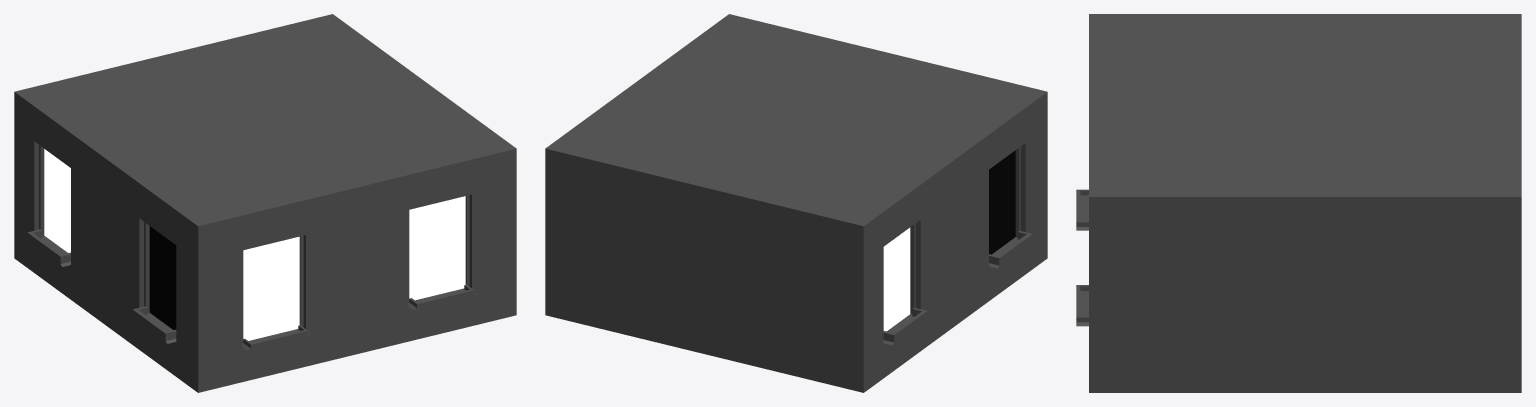
The model's file is immeuble4Milieu.fbx.
3 renders of one model, left to right at view 1: azimuth 30°, elevation 25°; view 2: azimuth 150°, elevation 25°; view 3: azimuth 270°, elevation 25°, orthographic. The views are drawn at different scales.
Visible parts, largest first — view 1: Cube.225; view 2: Cube.225; view 3: Cube.225.
Boxes of the visible parts, x1,y1,x2,y2 form: Cube.225: [14, 14, 516, 392]; Cube.225: [545, 14, 1047, 392]; Cube.225: [1076, 14, 1521, 392].
Bounding box in the file's own units: 2055 × 1000 × 2058.
